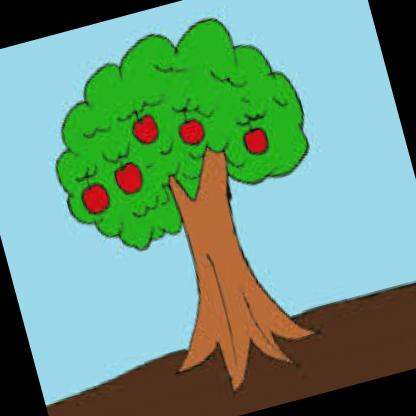apple: (73, 164, 114, 217), (107, 150, 148, 199), (172, 103, 210, 150), (236, 116, 272, 158), (126, 106, 162, 146)
branch_cut: (162, 145, 240, 228)
crown_cloud: (28, 4, 328, 266)
root_upside: (166, 296, 330, 405)
trunk_straight: (169, 218, 279, 326)
